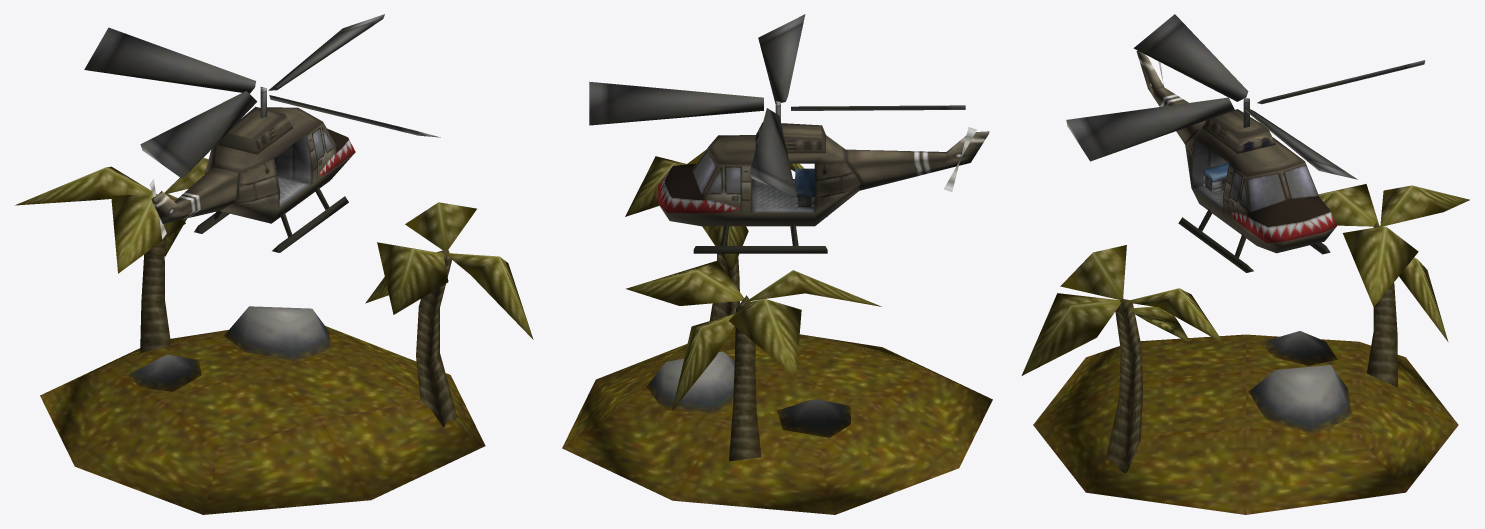
File: static.ico.obj
The picture shows the model from 3 angles, left to right: view 1: azimuth 30°, elevation 25°; view 2: azimuth 150°, elevation 25°; view 3: azimuth 270°, elevation 25°; orthographic projection. The views are drawn at different scales.
Bounding box in the file's own units: 4.59 × 3.99 × 4.84.
Materials: 1 (1 with a texture image).
